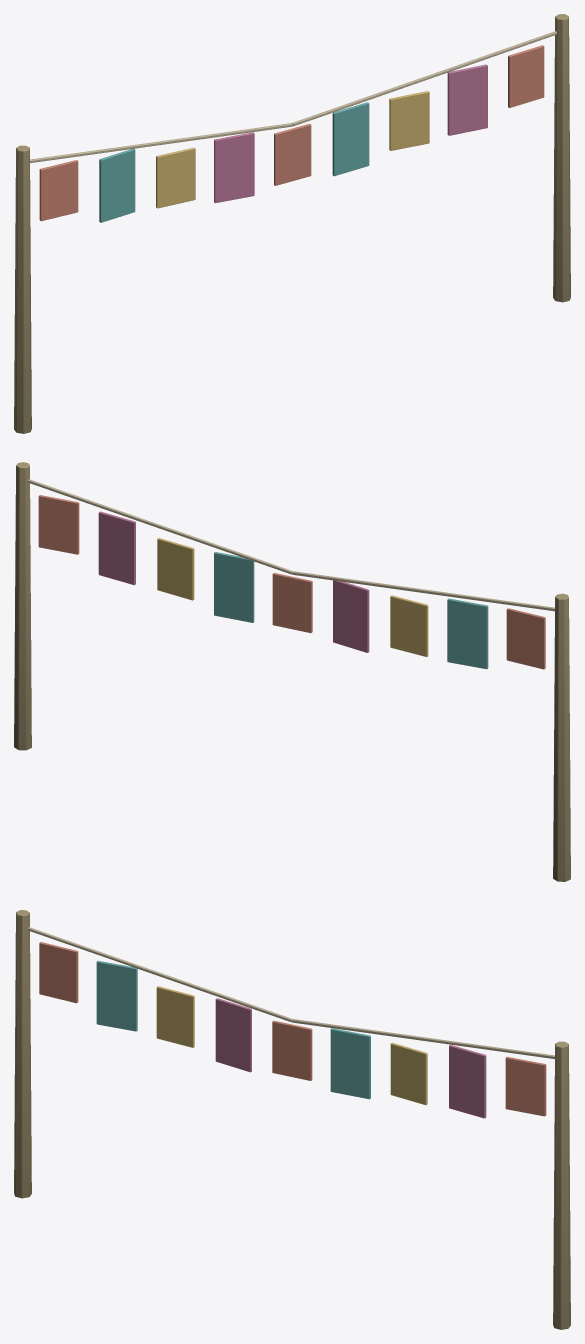
File: iv_clothline.glb
3 renders of one model, top to bottom at view 1: azimuth 30°, elevation 25°; view 2: azimuth 150°, elevation 25°; view 3: azimuth 330°, elevation 25°, orthographic.
Parts seen in each view (by area): view 1: iv_clothline; view 2: iv_clothline; view 3: iv_clothline.
Boxes of the visible parts, <box> form: iv_clothline: <box>14,14,570,433</box>; iv_clothline: <box>14,462,570,881</box>; iv_clothline: <box>14,910,570,1329</box>.
Size of the model in its own units: 6.17 by 3 by 0.1689.
